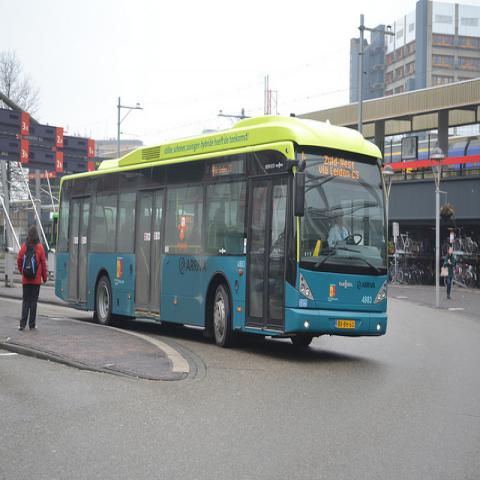bus: (51, 114, 389, 352)
